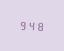eight: (35, 20, 42, 31)
four: (27, 19, 34, 31)
nine: (18, 19, 25, 30)
